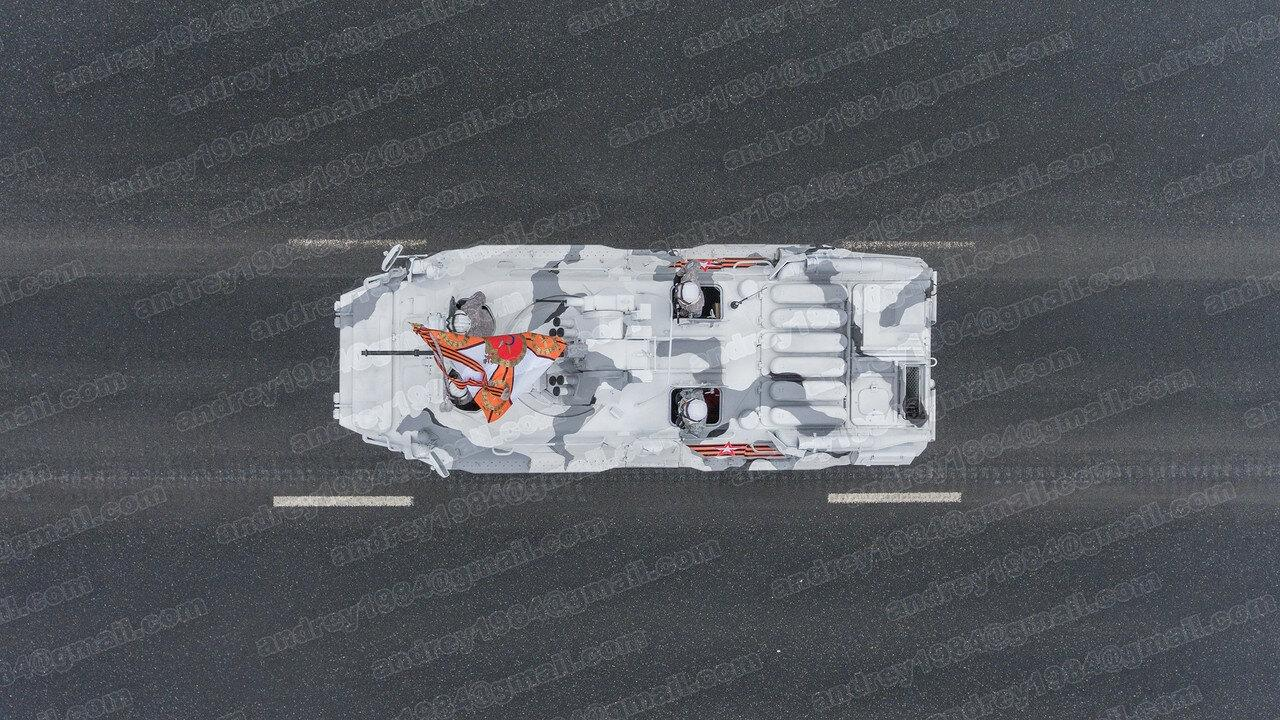armored_car: (334, 231, 942, 474)
